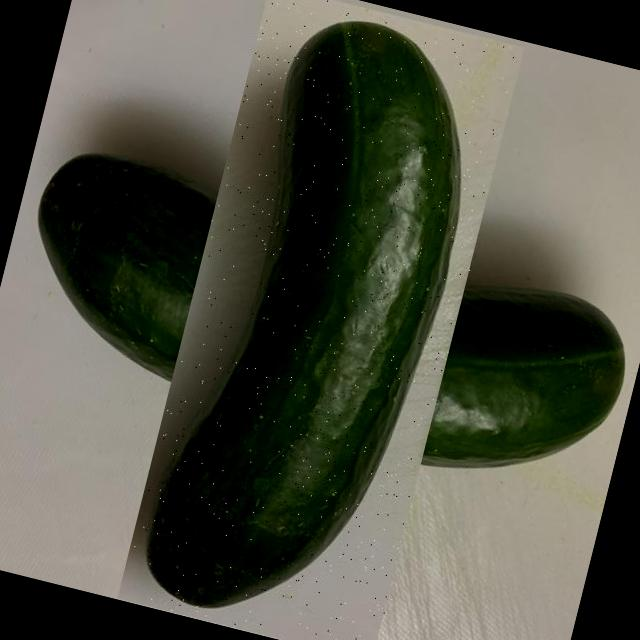Cucumber: (128, 0, 502, 640)
